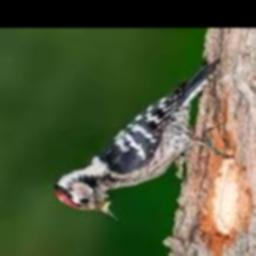Woodpecker: (53, 61, 232, 220)
